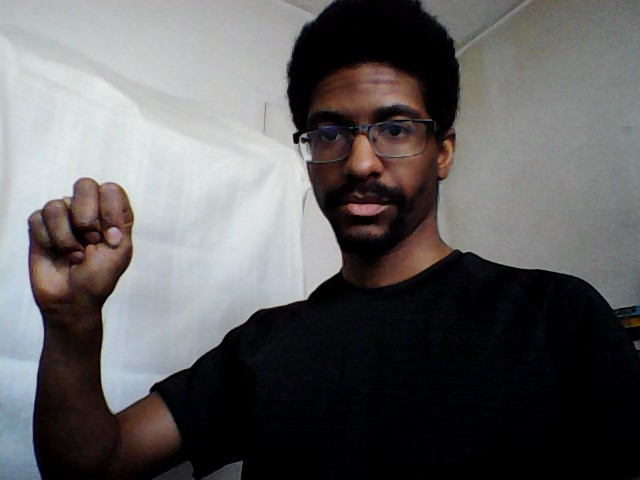n: (22, 172, 139, 304)
